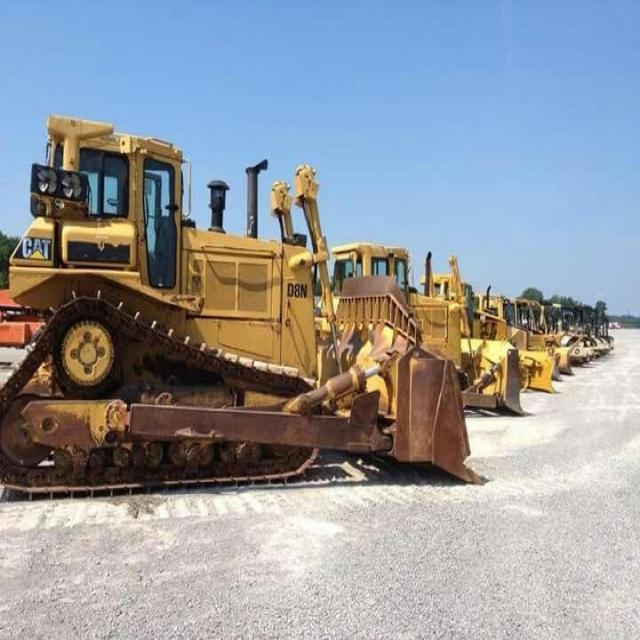buldozerpayloadergrader: (4, 93, 504, 495)
